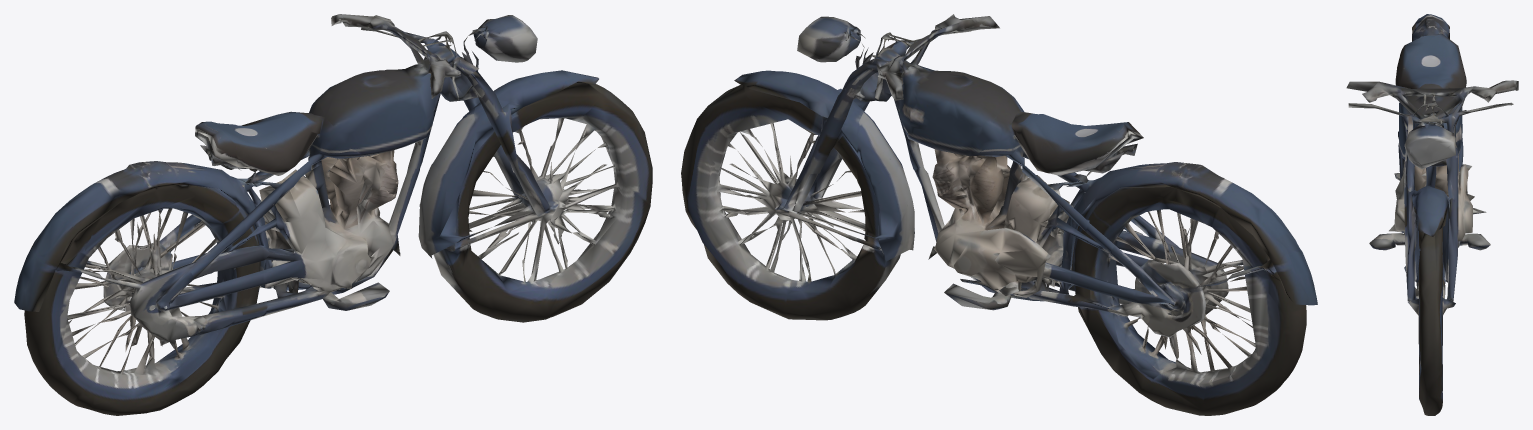
The model's file is motorcycle.glb.
The picture shows the model from 3 angles, left to right: view 1: azimuth 30°, elevation 25°; view 2: azimuth 150°, elevation 25°; view 3: azimuth 270°, elevation 25°; orthographic projection. The views are drawn at different scales.
Visible parts, largest first — view 1: tripo_node_64a0dfa8-2bc2-4acf-bb92-870edf01f2f1; view 2: tripo_node_64a0dfa8-2bc2-4acf-bb92-870edf01f2f1; view 3: tripo_node_64a0dfa8-2bc2-4acf-bb92-870edf01f2f1.
Boxes of the visible parts, left/top/right/bottom form: tripo_node_64a0dfa8-2bc2-4acf-bb92-870edf01f2f1: left=14, top=14, right=652, bottom=415; tripo_node_64a0dfa8-2bc2-4acf-bb92-870edf01f2f1: left=681, top=14, right=1317, bottom=415; tripo_node_64a0dfa8-2bc2-4acf-bb92-870edf01f2f1: left=1346, top=14, right=1518, bottom=415.
Size of the model in its own units: 2.36 by 1.1 by 0.6498.
1 material, 1 textured.
